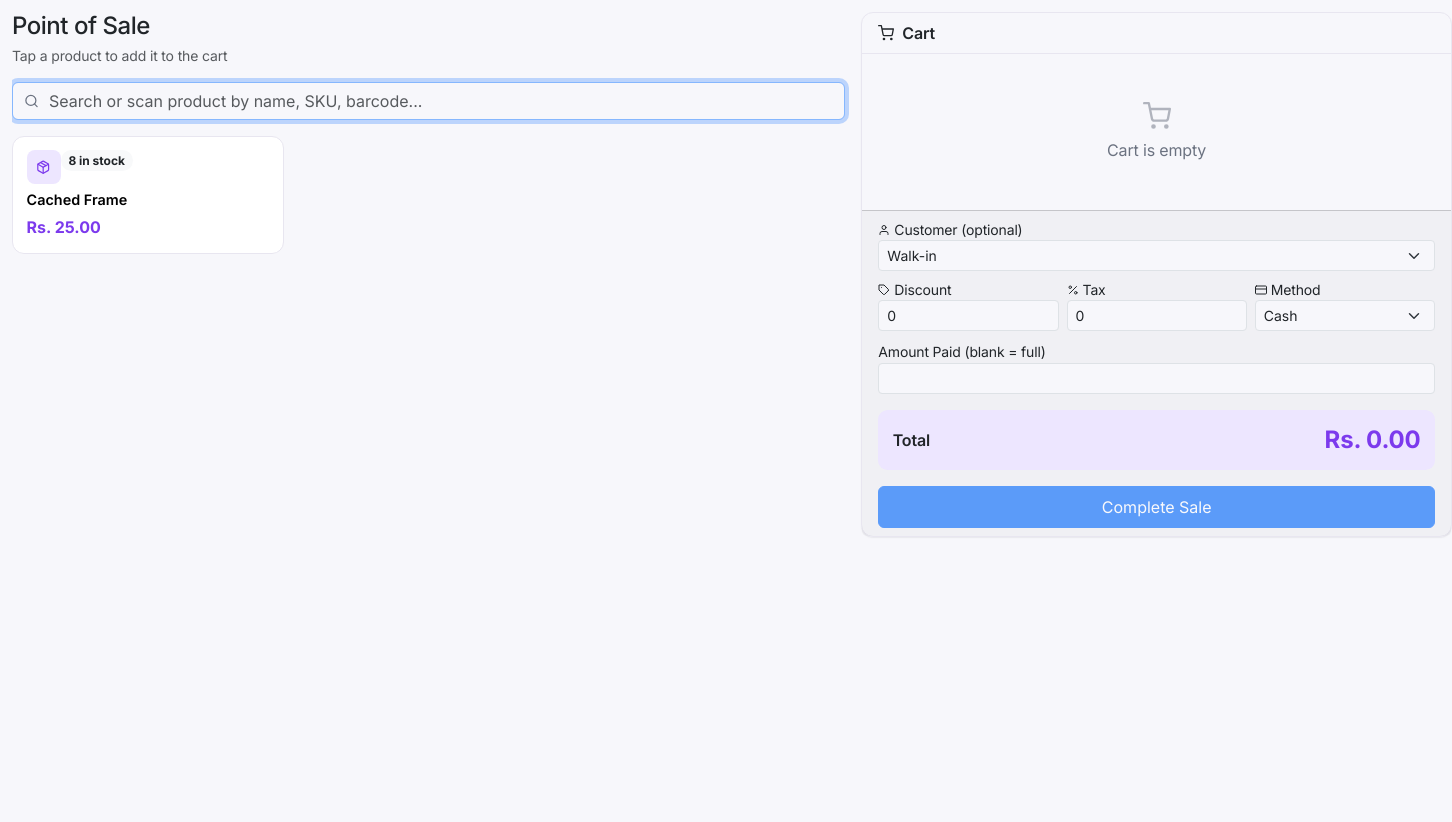
Pos page (Phase 1.8) › surfaces a conflict error without clearing the cart
Click the text "Cached Frame".
click(77, 200)  # box [27,191,127,209]
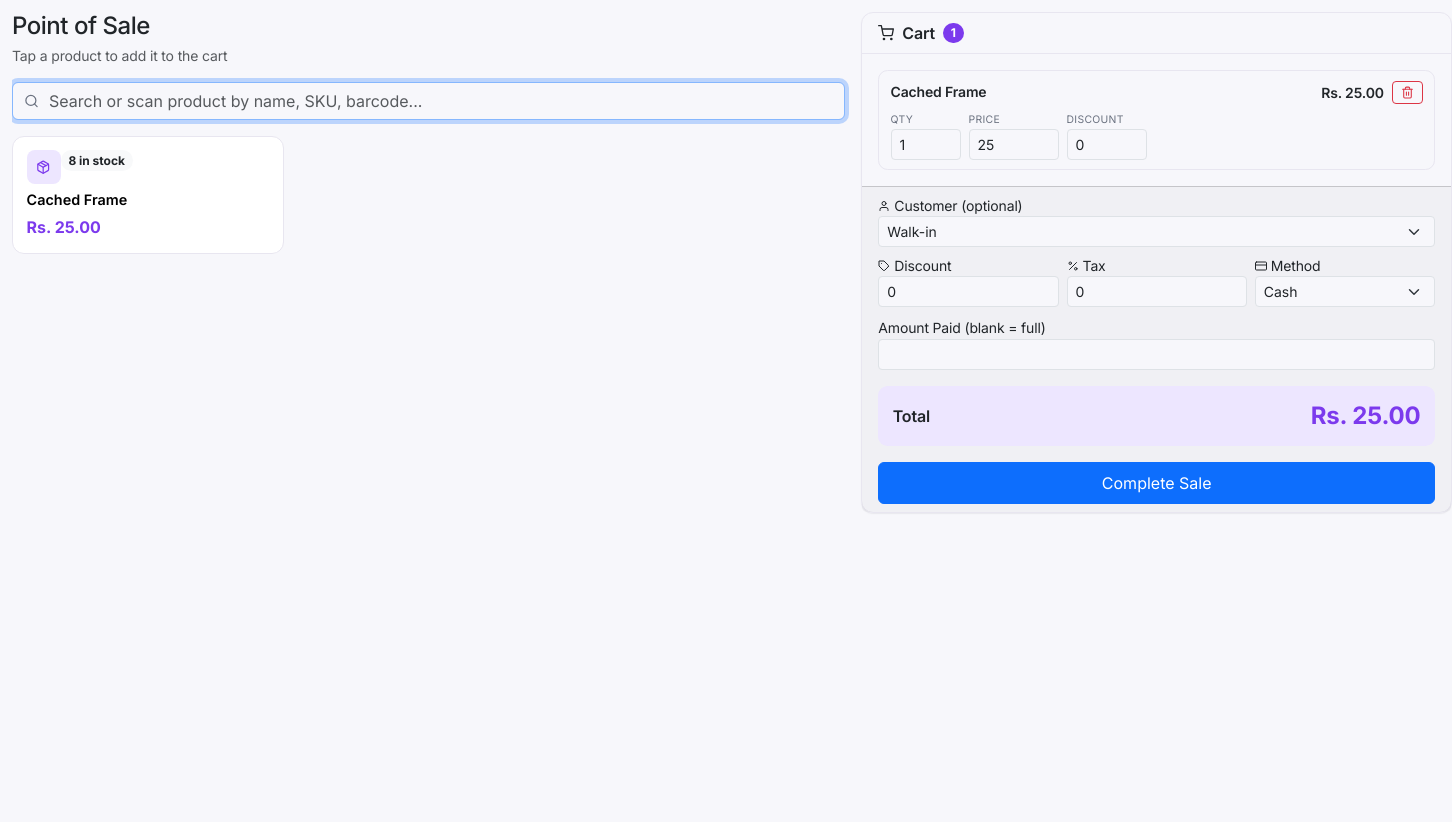
Click the button "Complete Sale".
click(1157, 483)  # box [878,462,1435,504]
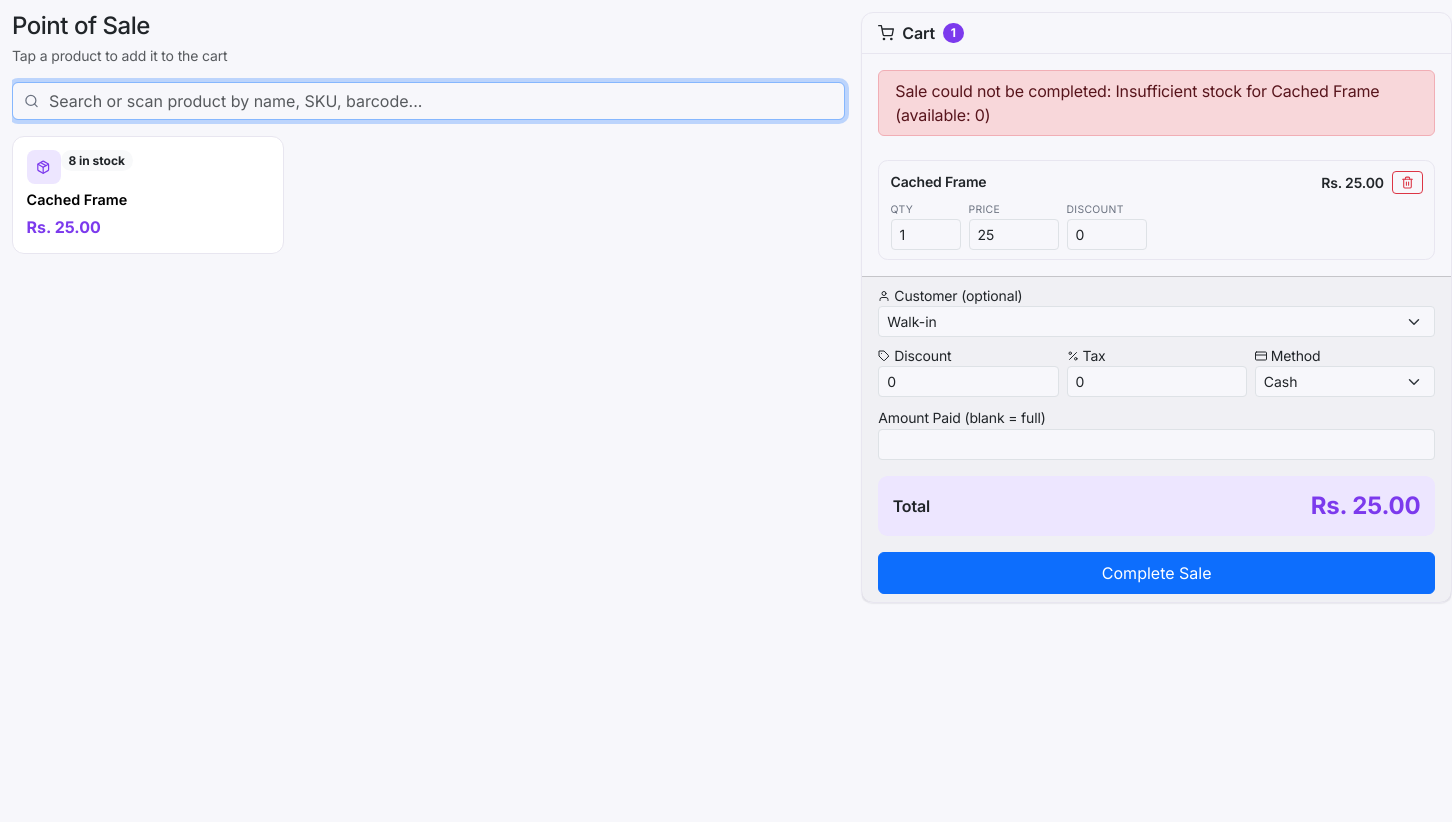
Result: the text "Sale could not be completed" is shown at [895,81,1380,125]
